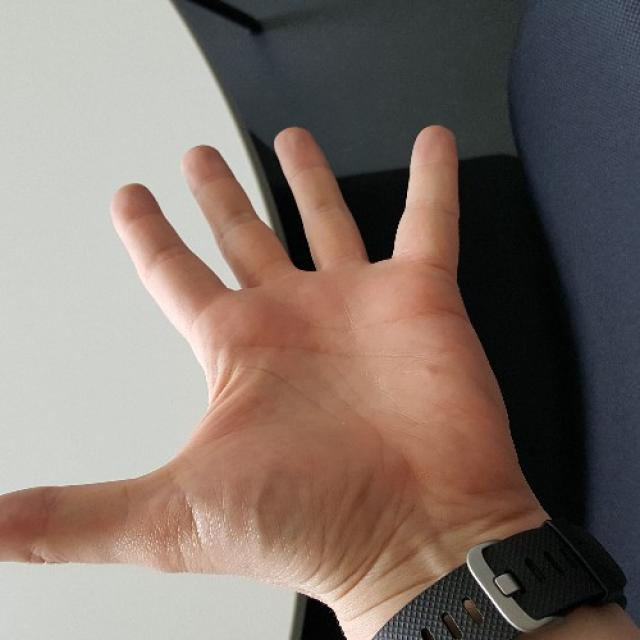paper: (1, 125, 532, 572)
